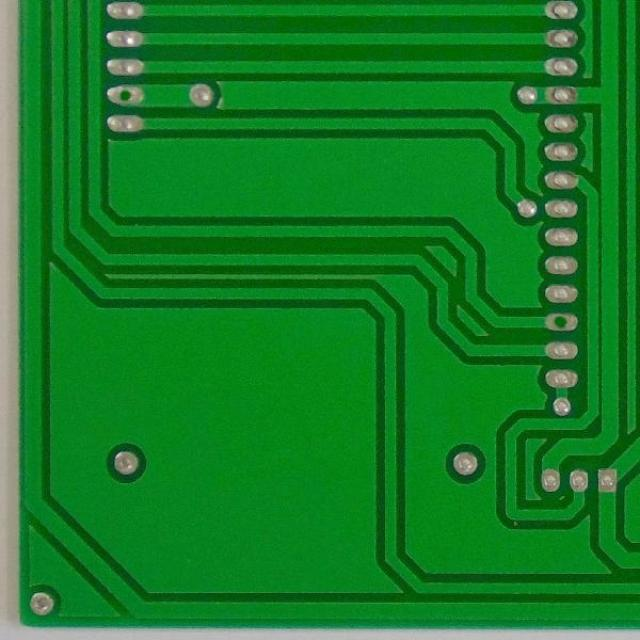missing_hole: (547, 307, 574, 337), (110, 80, 137, 110)
